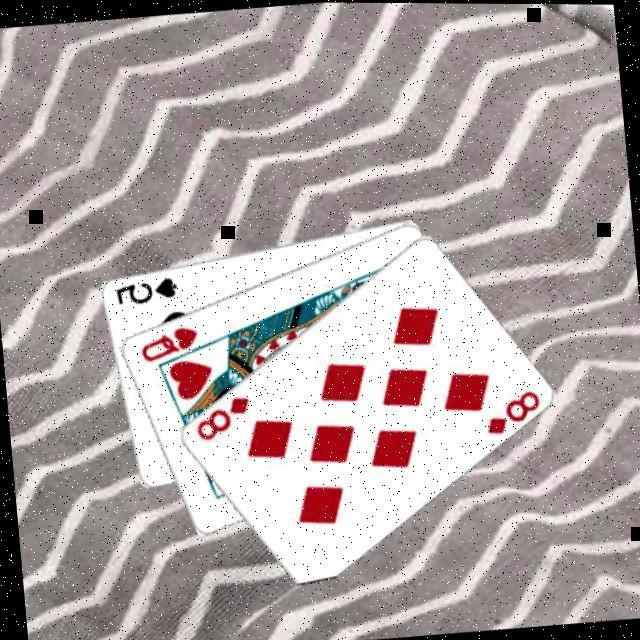5S: (109, 274, 178, 310)
8D: (187, 392, 253, 445), (478, 387, 542, 438)
QH: (133, 323, 200, 366)
